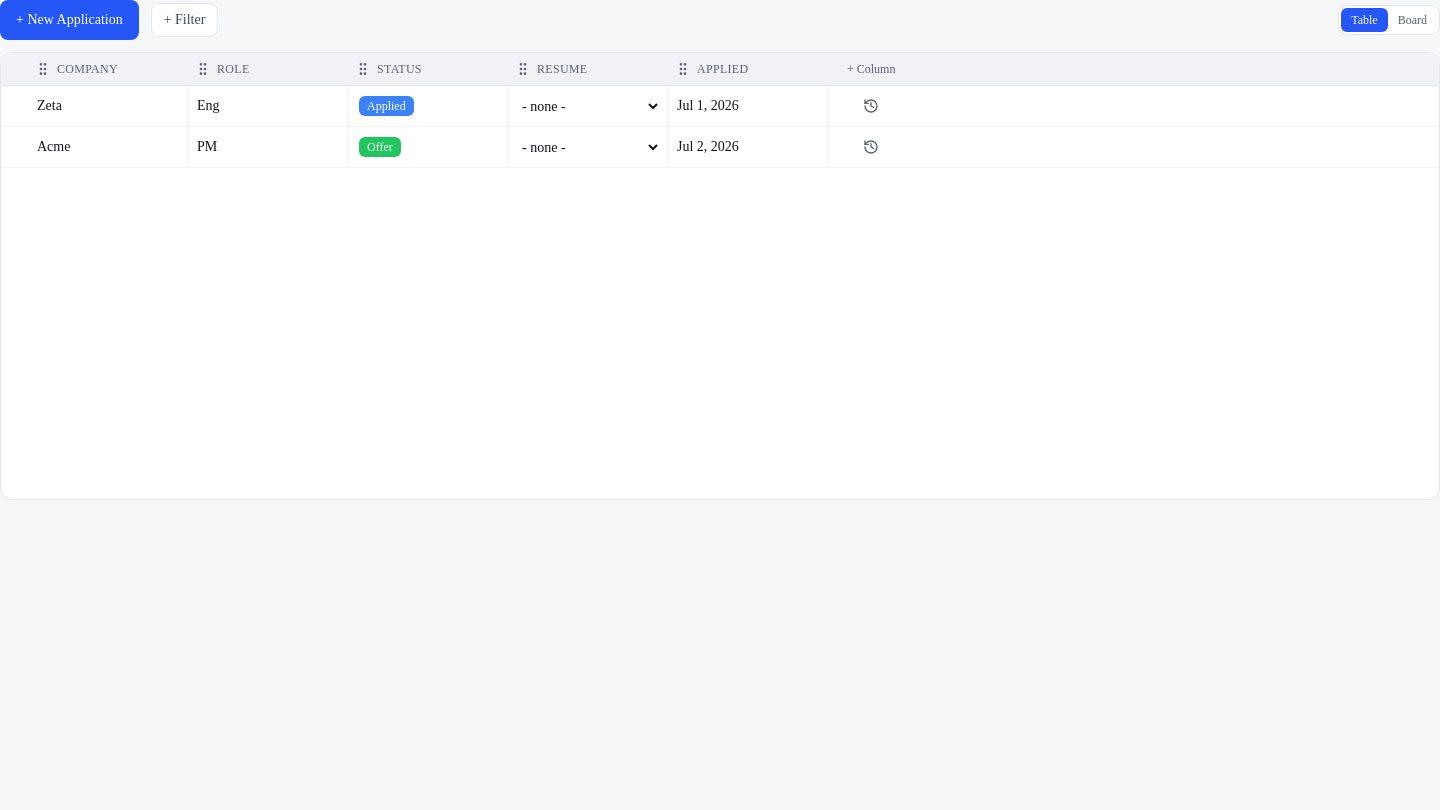
Test case: ApplicationsView sorting › adds a custom column through the + Column flow and persists it
The width and height of the screenshot is (1440, 810).
Step 1. Click the button "+ Column" → x=871, y=69, box [837, 57, 906, 81]
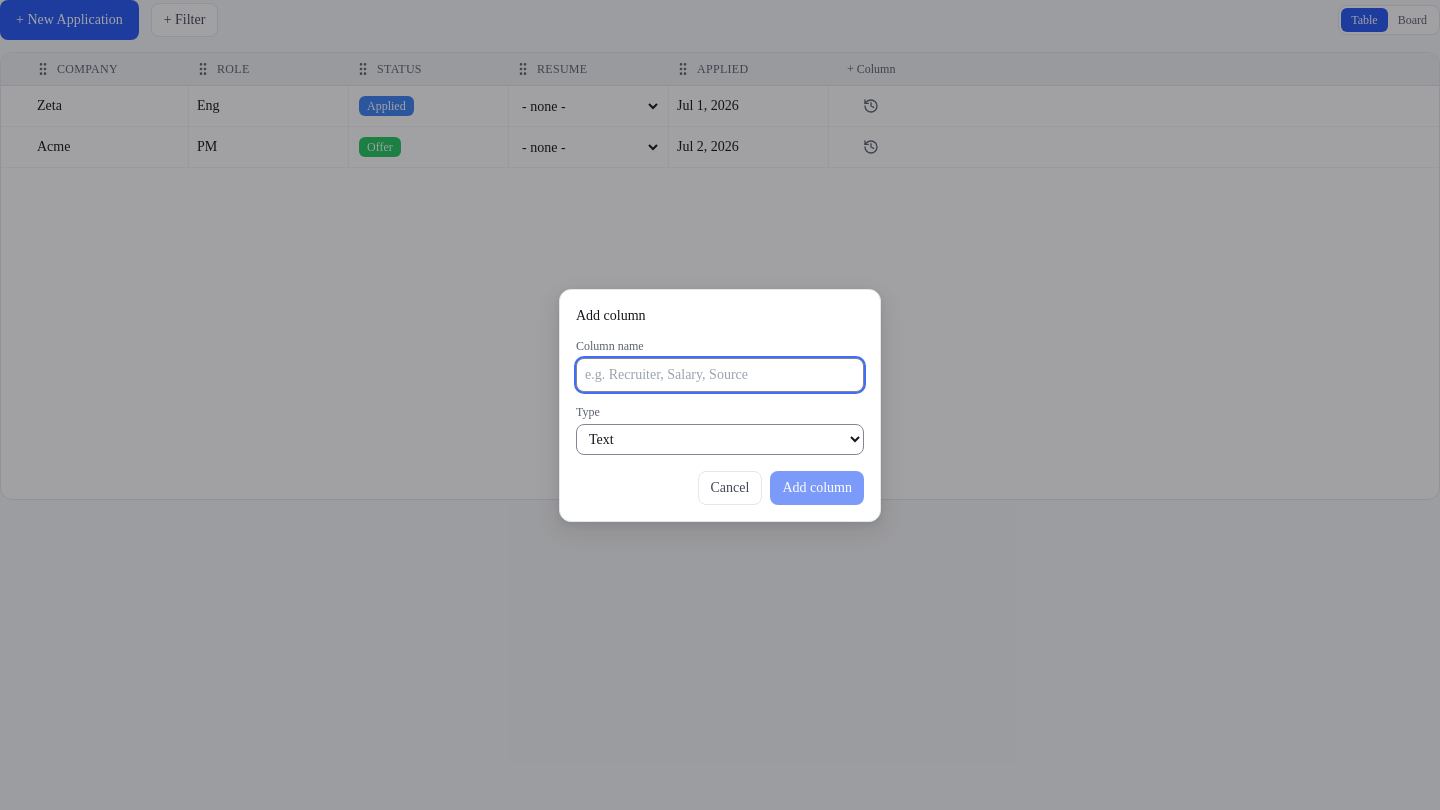
Step 2. Type "Recruiter" into the field labelled "Column name" → x=720, y=374, box [576, 358, 864, 392]
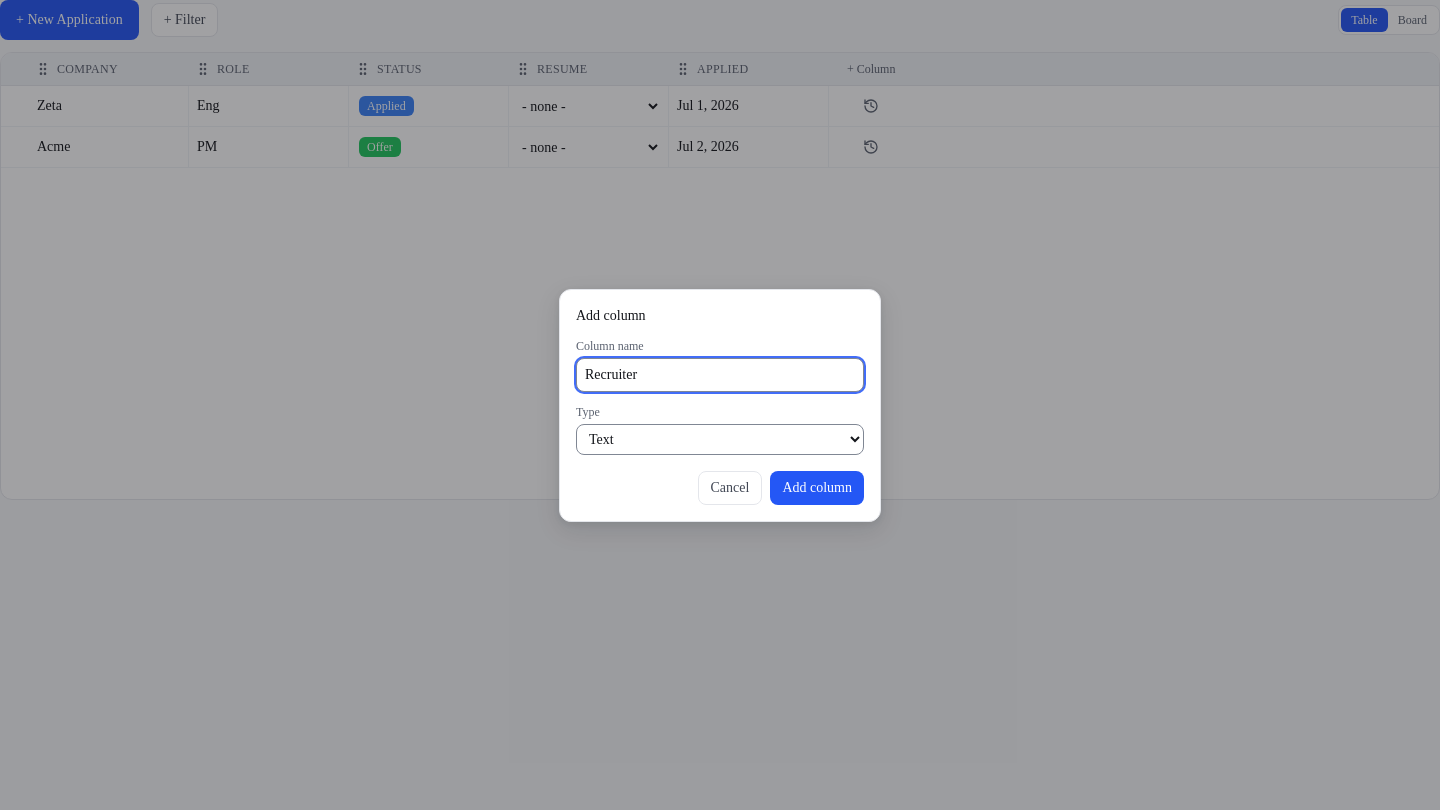
Step 3. Click the button "Add column" → x=817, y=488, box [770, 470, 864, 504]
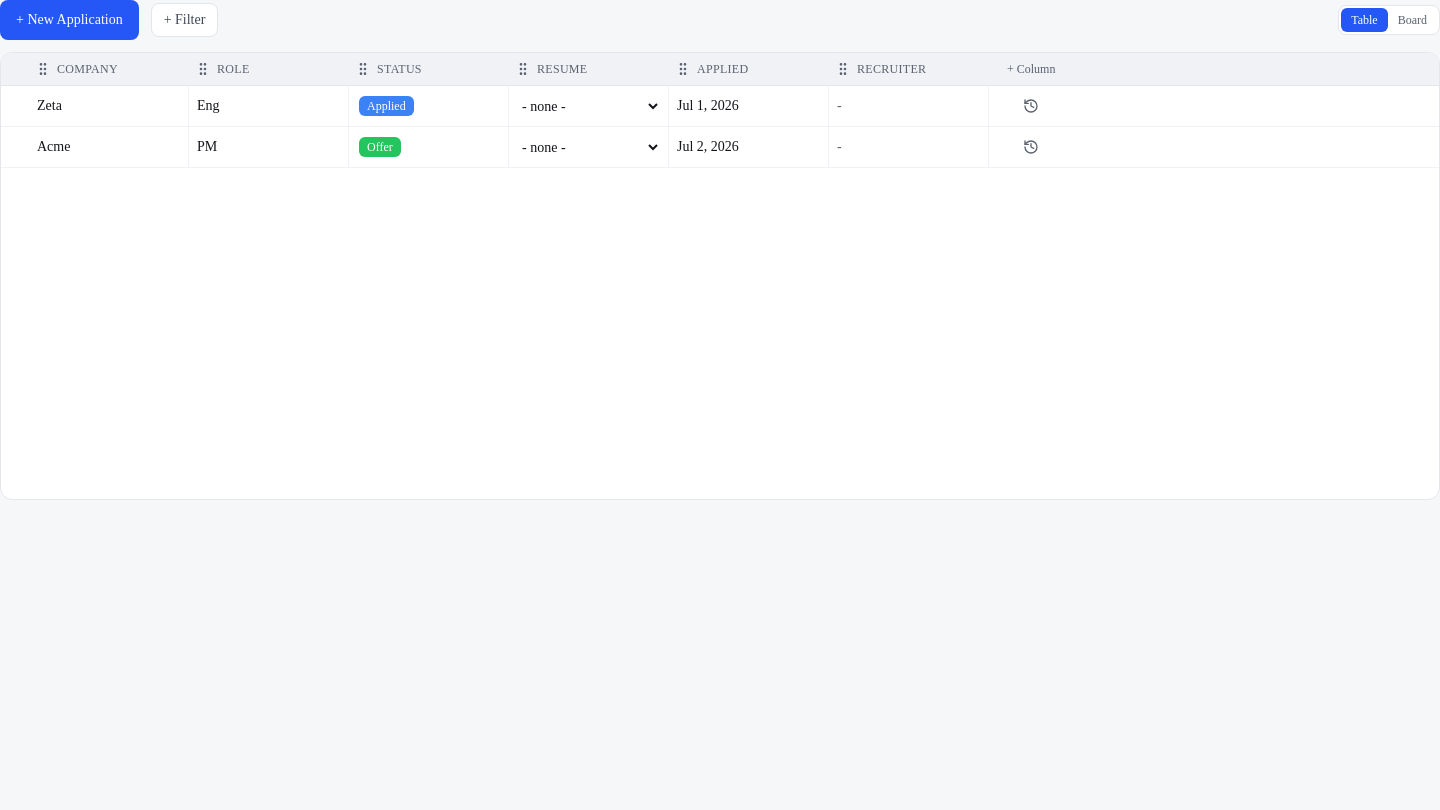
Check: the button with aria-label "Sort by Recruiter" is shown, box [855, 61, 948, 77]
